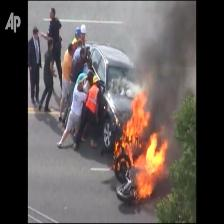fire: (127, 104, 156, 197)
smoke: (150, 17, 184, 102)
